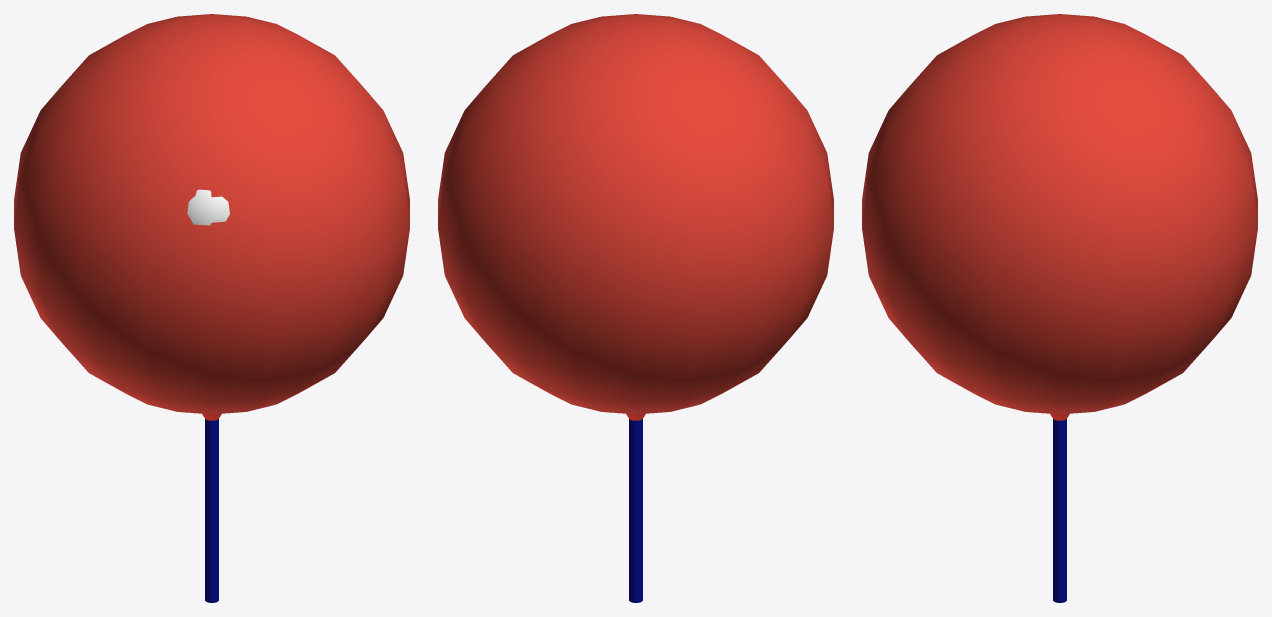
Rendered from item_balloon.fbx.
3 renders of one model, left to right at view 1: azimuth 30°, elevation 25°; view 2: azimuth 150°, elevation 25°; view 3: azimuth 270°, elevation 25°, orthographic.
Parts seen in each view (by area): view 1: M__item_balloon; view 2: M__item_balloon; view 3: M__item_balloon.
Boxes of the visible parts, x1,y1,x2,y2 form: M__item_balloon: [14, 14, 409, 602]; M__item_balloon: [438, 14, 833, 602]; M__item_balloon: [862, 14, 1257, 602].
Size of the model in its own units: 0.17 by 0.265 by 0.1674.
